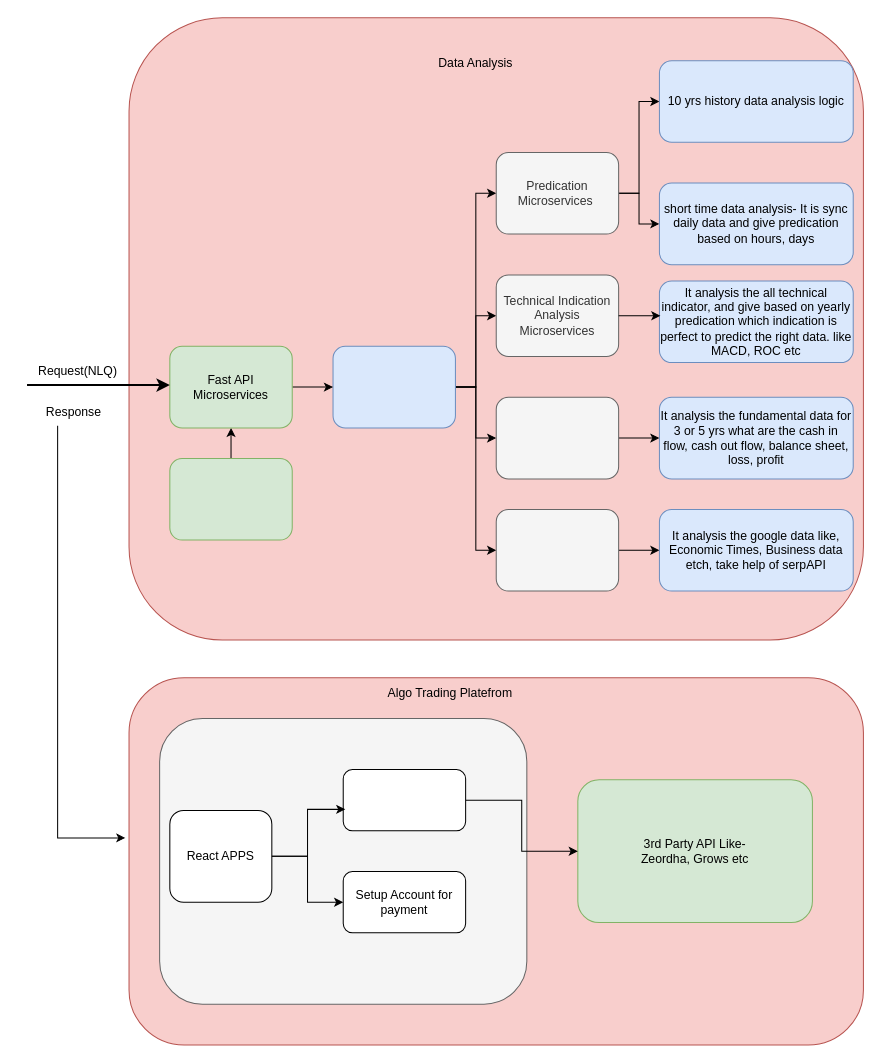
Image size: 881x1063. Some labels were removed from this diagram. The shapes that lost their labels are listed below. From the top down, each one's centre as x and y in pixels, then its label:
(393,386): Parallel Execution to Microservices
(557,437): Fundamental Analysis Microservices
(230,498): USING LLM convert NLQ to JSON Data
(557,549): Real TIme Data Microservices
(404,800): Fast API Microservice to executed
